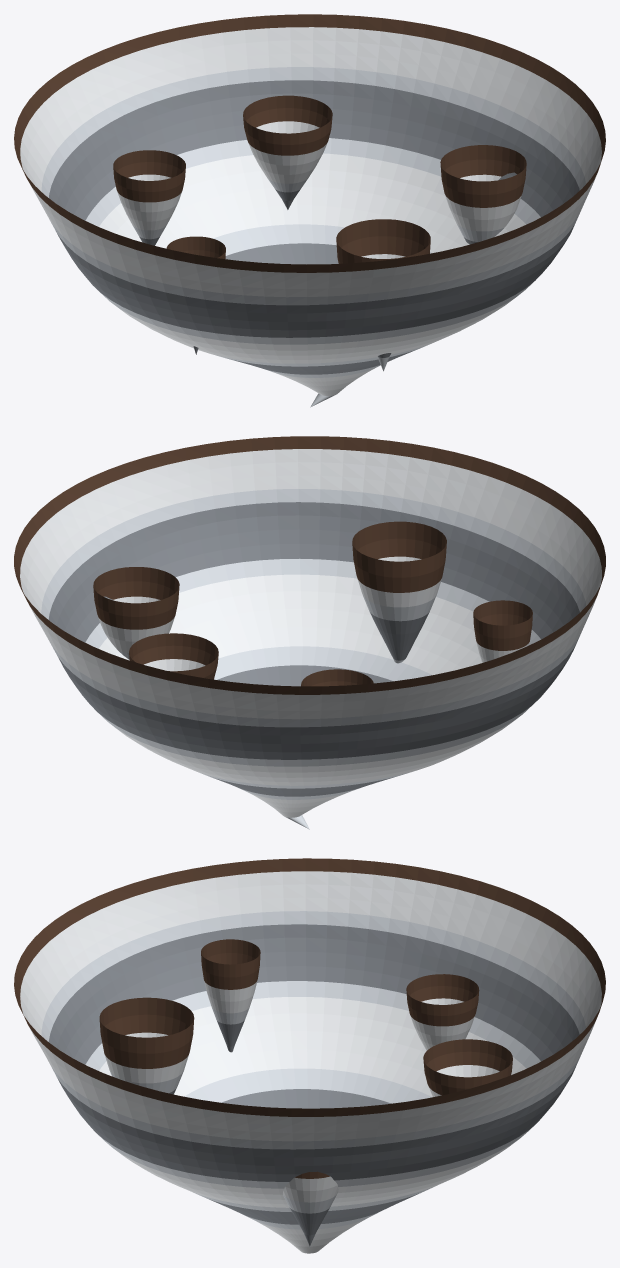
The model's file is IslandKeel.obj.
The picture shows the model from 3 angles, top to bottom: view 1: azimuth 30°, elevation 25°; view 2: azimuth 150°, elevation 25°; view 3: azimuth 270°, elevation 25°; orthographic projection.
Size of the model in its own units: 20 by 10 by 20.
